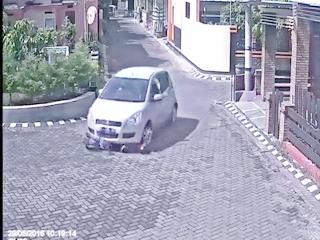Car: (91, 68, 174, 138)
Minor Accident: (89, 68, 174, 152)
Motor: (84, 135, 133, 153)
